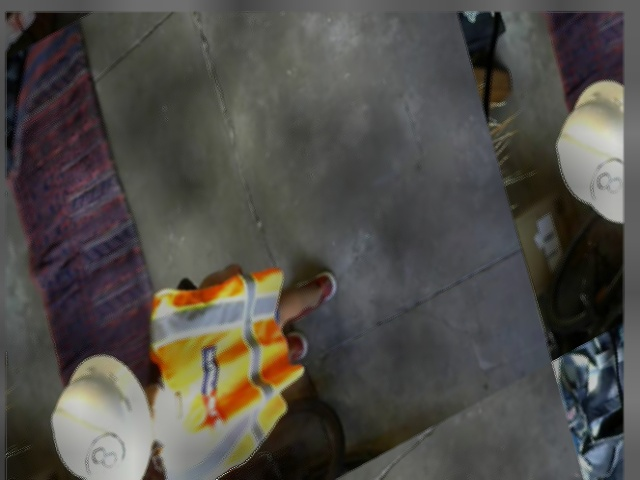eight: (77, 424, 128, 479)
